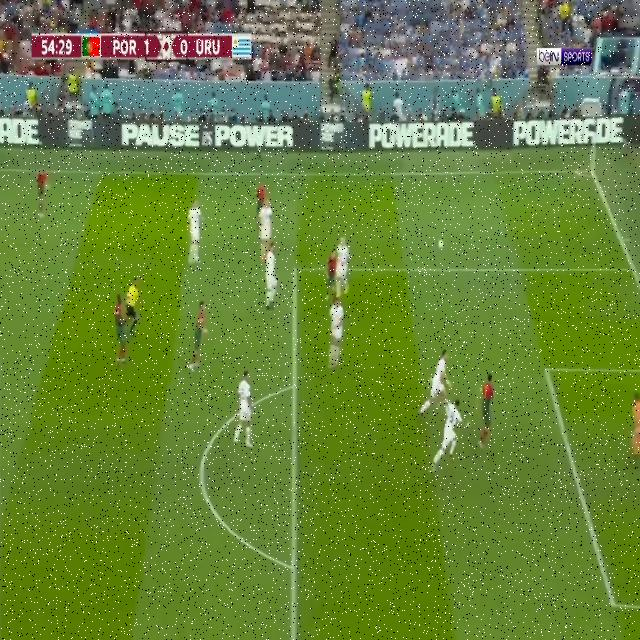Ball: (438, 241, 444, 250)
GoalKeeper: (628, 388, 640, 462)
Referee: (124, 274, 140, 340)
TEAM 1: (187, 301, 211, 374), (475, 372, 497, 450), (112, 294, 128, 367), (35, 167, 52, 220), (324, 248, 337, 300), (252, 180, 266, 216)
TEAM 2: (428, 398, 470, 472), (418, 346, 452, 415), (233, 367, 254, 450), (265, 240, 281, 312), (328, 298, 344, 370), (188, 198, 204, 267), (258, 198, 276, 259), (337, 232, 351, 303)
